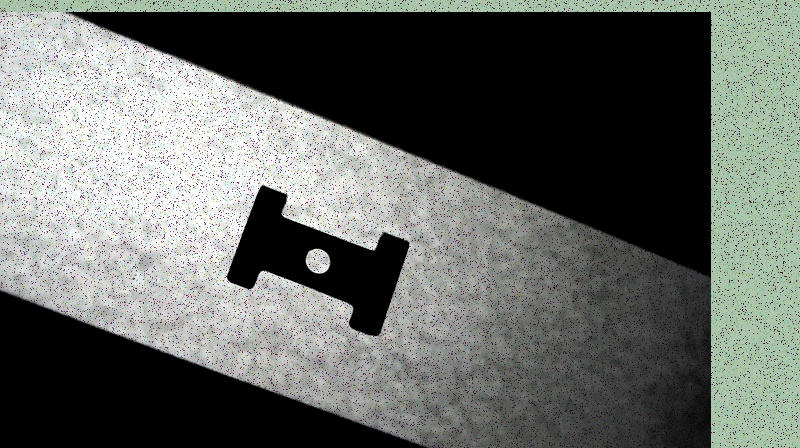O002: (222, 184, 409, 339)
